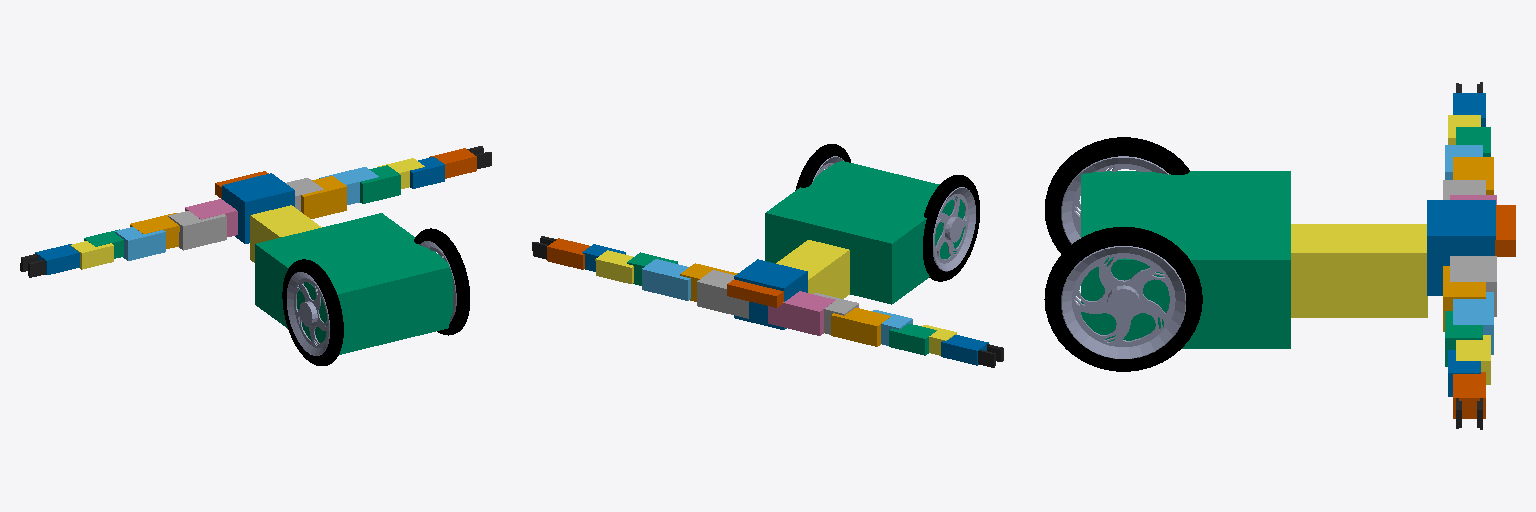
robot.urdf — Krang:
<?xml version="1.0" ?>
<!-- @file Krang.urdf -->
<!-- @author [author] -->
<!-- @date May 10, 2013 -->
<!-- @brief This file contains the .urdf definition for Krang. -->
<!-- NOTE: The center of mass locations are taken from the MassTable by summing up the -->
<!-- individual part values for the sections (which correspond to nodes here). -->
<!-- TODO: Set the center of mass locations -->
<!-- TODO: Set the correct masses. Note that the dae models have the brackets divided in two and -->
<!-- connected to the middle motor for which we do not have measurements. -->
<!-- NOTE: The bounding box values are taken by finding the min and max values of the dae files. -->

<robot name="Krang">

	<!-- Links -->

	<link name = "LWheel"> 
    <inertial>
      <mass value="4.66"/>
      <inertia ixx="0.102019" ixy="2.45462e-05" ixz="0.00713022" iyy="0.0832724" iyz="-0.00131733" izz="0.086493"/>
      <origin xyz="0 0 0"/>
    </inertial>
		<visual> <geometry> <mesh filename="Base/oldwheel.dae" /> </geometry> </visual> 
		<collision> <geometry> <mesh filename="Base/oldwheel.dae" /> </geometry> </collision> 
	</link>

	<link name = "RWheel"> 
    <inertial>
      <mass value="4.66"/>
      <inertia ixx="0.102019" ixy="2.45462e-05" ixz="0.00713022" iyy="0.0832724" iyz="-0.00131733" izz="0.086493"/>
      <origin xyz="0 0 0"/>
    </inertial>
		<visual> <geometry> <mesh filename="Base/oldwheel.dae" /> </geometry> </visual> 
		<collision> <geometry> <mesh filename="Base/oldwheel.dae" /> </geometry> </collision> 
	</link>

	<link name = "Base"> 
    <inertial>
      <mass value="81.856"/>
      <inertia ixx="0.102019" ixy="2.45462e-05" ixz="0.00713022" iyy="0.0832724" iyz="-0.00131733" izz="0.086493"/>
      <origin xyz="-0.00336451 0.107572 -0.00636184"/>
    </inertial>
		<visual> <origin xyz="0.00225 0.2097395 0.006300"/> <geometry> <box size="0.7165 0.71048 0.32860"/> </geometry> </visual> 
		<collision> <origin xyz="0.00225 0.2097395 0.006300"/> <geometry> <box size="0.7165 0.71048 0.32860"/> </geometry> </collision> 
	</link>

	<link name = "Spine"> 
    <inertial>
      <mass value="10.302"/>
      <inertia ixx="0.102019" ixy="2.45462e-05" ixz="0.00713022" iyy="0.0832724" iyz="-0.00131733" izz="0.086493"/>
			<!-- an offset of -0.02937 is added due to bad dae file and to align with base com -->
      <origin xyz="-0.02937 0.285314 0.0974926"/>
    </inertial>
		<visual> <origin xyz="-0.026 0.230150 0.053887"/> <geometry> <box size="0.2340 0.59430 0.24097"/> </geometry> </visual> 
		<collision> <origin xyz="-0.026 0.230150 0.053887"/> <geometry> <box size="0.2340 0.59430 0.24097"/> </geometry> </collision> 
	</link>

	<link name = "Bracket"> 
    <inertial>
      <mass value="10.17"/>
      <inertia ixx="0.102019" ixy="2.45462e-05" ixz="0.00713022" iyy="0.0832724" iyz="-0.00131733" izz="0.086493"/>
			<!-- offseted with 0.0827 because the origin of the bracket is at the bottom -->
      <origin xyz="0 0.080606 -0.00314267"/>
    </inertial>
		<visual> <origin xyz="0.0012875 0.0582 -0.0280530"/> <geometry> <box size="0.2815 0.23 0.22611"/> </geometry> </visual> 
		<collision> <origin xyz="0.0012875 0.0582 -0.0280530"/> <geometry> <box size="0.2815 0.23 0.22611"/> </geometry> </collision> 
	</link>

	<link name = "Kinect"> 
    <inertial>
      <mass value="0.705"/>
      <inertia ixx="0.102019" ixy="2.45462e-05" ixz="0.00713022" iyy="0.0832724" iyz="-0.00131733" izz="0.086493"/>
      <origin xyz="0.0 -0.04 -0.028"/>
    </inertial>
		<visual> <origin xyz="0.0 -0.0251 -0.0185"/> <geometry> <box size="0.28 0.07 0.063"/> </geometry> </visual> 
		<collision> <origin xyz="0.0 -0.0251 -0.0185"/> <geometry> <box size="0.28 0.07 0.063"/> </geometry> </collision> 
	</link>

	<link name = "L1"> 
    <inertial>
      <mass value="3.836"/>
      <inertia ixx="0.102019" ixy="2.45462e-05" ixz="0.00713022" iyy="0.0832724" iyz="-0.00131733" izz="0.086493"/>
      <origin xyz="0.0063626 -0.00725706 0"/>
    </inertial>
		<visual> <origin xyz="0.015 -0.080866 0.0"/> <geometry> <box size="0.16 0.29367 0.13188"/> </geometry> </visual> 
		<collision> <origin xyz="0.015 -0.080866 0.0"/> <geometry> <box size="0.16 0.29367 0.13188"/> </geometry> </collision> 
	</link>

	<link name = "L2"> 
    <inertial>
      <mass value="2.385"/>
      <inertia ixx="0.102019" ixy="2.45462e-05" ixz="0.00713022" iyy="0.0832724" iyz="-0.00131733" izz="0.086493"/>
      <origin xyz="0.0101136 -0.15332 0"/>
    </inertial>
		<visual> <origin xyz="0.017042 -0.058309 0.0"/> <geometry> <box size="0.14591 0.24658 0.13"/> </geometry> </visual> 
		<collision> <origin xyz="0.017042 -0.058309 0.0"/> <geometry> <box size="0.14591 0.24658 0.13"/> </geometry> </collision> 
	</link>

	<link name = "L3"> 
    <inertial>
      <mass value="2.306"/>
      <inertia ixx="0.102019" ixy="2.45462e-05" ixz="0.00713022" iyy="0.0832724" iyz="-0.00131733" izz="0.086493"/>
      <origin xyz="0.0071222 -0.00803823 0"/>
    </inertial>
		<visual> <origin xyz="0.014000 -0.075113 0.0"/> <geometry> <box size="0.13800 0.26217 0.11189"/> </geometry> </visual> 
		<collision> <origin xyz="0.014000 -0.075113 0.0"/> <geometry> <box size="0.13800 0.26217 0.11189"/> </geometry> </collision> 
	</link>

	<link name = "L4"> 
    <inertial>
      <mass value="1.477"/>
      <inertia ixx="0.102019" ixy="2.45462e-05" ixz="0.00713022" iyy="0.0832724" iyz="-0.00131733" izz="0.086493"/>
      <origin xyz="0.0115211 -0.1255 0"/>
    </inertial>
		<visual> <origin xyz="0.018200 -0.052050 0.0"/> <geometry> <box size="0.12960 0.2141 0.11"/> </geometry> </visual> 
		<collision> <origin xyz="0.018200 -0.052050 0.0"/> <geometry> <box size="0.12960 0.2141 0.11"/> </geometry> </collision> 
	</link>

	<link name = "L5"> 
    <inertial>
      <mass value="1.369"/>
      <inertia ixx="0.102019" ixy="2.45462e-05" ixz="0.00713022" iyy="0.0832724" iyz="-0.00131733" izz="0.086493"/>
      <origin xyz="0.00705037 -0.00747172 0"/>
    </inertial>
		<visual> <origin xyz="0.0145115 -0.0571105 0.0000425"/> <geometry> <box size="0.117977 0.204179 0.089915"/> </geometry> </visual> 
		<collision> <origin xyz="0.0145115 -0.0571105 0.0000425"/> <geometry> <box size="0.117977 0.204179 0.089915"/> </geometry> </collision> 
	</link>

	<link name = "L6"> 
    <inertial>
      <mass value="1.47"/>
      <inertia ixx="0.102019" ixy="2.45462e-05" ixz="0.00713022" iyy="0.0832724" iyz="-0.00131733" izz="0.086493"/>
      <origin xyz="0.0105523 -0.117163 0"/>
    </inertial>
		<visual> <origin xyz="0.0175015 -0.0481615 0.0"/> <geometry> <box size="0.111977 0.185277 0.089"/> </geometry> </visual> 
		<collision> <origin xyz="0.0175015 -0.0481615 0.0"/> <geometry> <box size="0.111977 0.185277 0.089"/> </geometry> </collision> 
	</link>

	<link name = "lGripper"> 
    <inertial>
      <mass value="1.6"/>
      <inertia ixx="0.102019" ixy="2.45462e-05" ixz="0.00713022" iyy="0.0832724" iyz="-0.00131733" izz="0.086493"/>
			<!-- An addition of 4.05 cms from the end of Schunk gripper to space between two halves of ft -->
      <origin xyz="0 0 0.1055"/>
    </inertial>
		<visual> <origin xyz="0.0 -0.0 0.02615" rpy="0.0 0.0 1.5708"/> <geometry> <box size="0.08 0.112 0.2025"/> </geometry> </visual> 
		<collision> <origin xyz="0.0 -0.0 0.02615" rpy="0.0 0.0 1.5708"/> <geometry> <box size="0.08 0.112 0.2025"/> </geometry> </collision> 
	</link>

	<link name = "lgPlate1">
    <inertial> <mass value="0.0001"/> </inertial>
		<visual> <geometry> <mesh filename="Schunk/gripperPlate.dae" /> </geometry> </visual>
	</link> 	

	<link name = "lgPlate2">
    <inertial> <mass value="0.0001"/> </inertial>
		<visual> <geometry> <mesh filename="Schunk/gripperPlate.dae" /> </geometry> </visual>
	</link> 	

	<link name = "R1"> 
    <inertial>
      <mass value="3.836"/>
      <inertia ixx="0.102019" ixy="2.45462e-05" ixz="0.00713022" iyy="0.0832724" iyz="-0.00131733" izz="0.086493"/>
      <origin xyz="0.0063626 -0.00725706 0"/>
    </inertial>
		<visual> <origin xyz="0.015 -0.080866 0.0"/> <geometry> <box size="0.16 0.29367 0.13188"/> </geometry> </visual> 
		<collision> <origin xyz="0.015 -0.080866 0.0"/> <geometry> <box size="0.16 0.29367 0.13188"/> </geometry> </collision> 
	</link>

	<link name = "R2"> 
    <inertial>
      <mass value="2.385"/>
      <inertia ixx="0.102019" ixy="2.45462e-05" ixz="0.00713022" iyy="0.0832724" iyz="-0.00131733" izz="0.086493"/>
      <origin xyz="0.0101136 -0.15332 0"/>
    </inertial>
		<visual> <origin xyz="0.017042 -0.058309 0.0"/> <geometry> <box size="0.14591 0.24658 0.13"/> </geometry> </visual> 
		<collision> <origin xyz="0.017042 -0.058309 0.0"/> <geometry> <box size="0.14591 0.24658 0.13"/> </geometry> </collision> 
	</link>

	<link name = "R3"> 
    <inertial>
      <mass value="2.306"/>
      <inertia ixx="0.102019" ixy="2.45462e-05" ixz="0.00713022" iyy="0.0832724" iyz="-0.00131733" izz="0.086493"/>
      <origin xyz="0.0071222 -0.00803823 0"/>
    </inertial>
		<visual> <origin xyz="0.014000 -0.075113 0.0"/> <geometry> <box size="0.13800 0.26217 0.11189"/> </geometry> </visual> 
		<collision> <origin xyz="0.014000 -0.075113 0.0"/> <geometry> <box size="0.13800 0.26217 0.11189"/> </geometry> </collision> 
	</link>

	<link name = "R4"> 
    <inertial>
      <mass value="1.477"/>
      <inertia ixx="0.102019" ixy="2.45462e-05" ixz="0.00713022" iyy="0.0832724" iyz="-0.00131733" izz="0.086493"/>
      <origin xyz="0.0115211 -0.1255 0"/>
    </inertial>
		<visual> <origin xyz="0.018200 -0.052050 0.0"/> <geometry> <box size="0.12960 0.2141 0.11"/> </geometry> </visual> 
		<collision> <origin xyz="0.018200 -0.052050 0.0"/> <geometry> <box size="0.12960 0.2141 0.11"/> </geometry> </collision> 
	</link>

	<link name = "R5"> 
    <inertial>
      <mass value="1.369"/>
      <inertia ixx="0.102019" ixy="2.45462e-05" ixz="0.00713022" iyy="0.0832724" iyz="-0.00131733" izz="0.086493"/>
      <origin xyz="0.00705037 -0.00747172 0"/>
    </inertial>
		<visual> <origin xyz="0.0145115 -0.0571105 0.0000425"/> <geometry> <box size="0.117977 0.204179 0.089915"/> </geometry> </visual> 
		<collision> <origin xyz="0.0145115 -0.0571105 0.0000425"/> <geometry> <box size="0.117977 0.204179 0.089915"/> </geometry> </collision> 
	</link>

	<link name = "R6"> 
    <inertial>
      <mass value="1.47"/>
      <inertia ixx="0.102019" ixy="2.45462e-05" ixz="0.00713022" iyy="0.0832724" iyz="-0.00131733" izz="0.086493"/>
      <origin xyz="0.0105523 -0.117163 0"/>
    </inertial>
		<visual> <origin xyz="0.0175015 -0.0481615 0.0"/> <geometry> <box size="0.111977 0.185277 0.089"/> </geometry> </visual> 
		<collision> <origin xyz="0.0175015 -0.0481615 0.0"/> <geometry> <box size="0.111977 0.185277 0.089"/> </geometry> </collision> 
	</link>

	<link name = "rGripper"> 
    <inertial>
      <mass value="1.6"/>
      <inertia ixx="0.102019" ixy="2.45462e-05" ixz="0.00713022" iyy="0.0832724" iyz="-0.00131733" izz="0.086493"/>
			<!-- An addition of 4.05 cms from the end of Schunk gripper to space between two halves of ft -->
      <origin xyz="0 0 0.1055"/>
    </inertial>
		<visual> <origin xyz="0.0 -0.0 0.02615" rpy="0.0 0.0 1.5708"/> <geometry> <box size="0.08 0.112 0.2025"/> </geometry> </visual> 
		<collision> <origin xyz="0.0 -0.0 0.02615" rpy="0.0 0.0 1.5708"/> <geometry> <box size="0.08 0.112 0.2025"/> </geometry> </collision> 
	</link>

	<link name = "rgPlate1">
    <inertial> <mass value="0.0001"/> </inertial>
		<visual> <geometry> <mesh filename="Schunk/gripperPlate.dae" /> </geometry> </visual>
	</link> 	

	<link name = "rgPlate2">
    <inertial> <mass value="0.0001"/> </inertial>
		<visual> <geometry> <mesh filename="Schunk/gripperPlate.dae" /> </geometry> </visual>
	</link> 	

	<!-- ======================================================================================================== -->
	<!-- ============================================ Joints ==================================================== -->
	<!-- ======================================================================================================== -->

	<joint name="JLWheel" type="revolute"> <parent link="Base" /> <child link="LWheel" />
		<origin xyz = "-0.354 0.0 0" rpy="0 0 0" />
		<axis xyz="1 0 0" /> <limit effort="1000" lower="-3.1416" upper="3.1416" velocity="0.1" />
	</joint>

	<joint name="JRWheel" type="revolute"> <parent link="Base" /> <child link="RWheel" />
		<origin xyz = "0.361 0.0 0" rpy="0 0 0" />
		<axis xyz="1 0 0" /> <limit effort="1000" lower="-3.1416" upper="3.1416" velocity="0.1" />
	</joint>

	<joint name="JWaist" type="revolute"> <parent link="Base" /> <child link="Spine" />
		<origin xyz = "0.026 0.499 -0.091" rpy="0 0 0" />
		<axis xyz="-1 0 0" /> <limit effort="1000" lower="0" upper="2.7" velocity="0.1" />
	</joint>

	<joint name="JTorso" type="revolute"> <parent link="Spine" /> <child link="Bracket" />
		<origin xyz = "-0.0285 0.584 0.1088" rpy="0 3.1416 0" /> 
		<axis xyz="0 -1 0" /> <limit effort="1000" lower="-0.8" upper="0.8" velocity="0.1" />
	</joint>

	<joint name="JKinect" type="revolute"> <parent link="Bracket" /> <child link="Kinect" />
		<origin xyz = "-0.001 0.1805 -0.1120" rpy="3.1416 0 0" />
		<axis xyz="1 0 0" /> <limit effort="1000" lower="-3.1416" upper="3.1416" velocity="0.1" />
	</joint>

	<joint name="LJ1" type="revolute"> <parent link="Bracket" /> <child link="L1" />
		<origin xyz = "0.2823 0.0845 0" rpy="0 3.1416 -1.5708" />
		<axis xyz="0 -1 0" /> <limit effort="1000" lower="-3.1416" upper="3.1416" velocity="0.1" />
	</joint>

	<joint name="LJ2" type="revolute"> <parent link="L1" /> <child link="L2" />
		<origin xyz="0 0.0 0" rpy="3.14 3.14 0" />
		<axis xyz="-1 0 0" /> <limit effort="1000" lower="-2.094" upper="2.094" velocity="0.1" />
	</joint>

	<joint name="LJ3" type="revolute"> <parent link="L2" /> <child link="L3" />
		<origin xyz="0 -0.328 0" rpy="-3.1416 -3.1416 0" />
		<axis xyz="0 -1 0" /> <limit effort="1000" lower="-3.1416" upper="3.1416" velocity="0.1" />
	</joint>

	<joint name="LJ4" type="revolute"> <parent link="L3" /> <child link="L4" />
		<origin xyz="0 0 0" rpy="3.1416 3.1416 0" />
		<axis xyz="-1 0 0" /> <limit effort="1000" lower="-2.094" upper="2.094" velocity="0.1" />
	</joint>

	<joint name="LJ5" type="revolute"> <parent link="L4" /> <child link="L5" />
		<origin xyz="0 -0.2765 0" rpy="3.1416 3.1416 0" />
		<axis xyz="0 -1 0" /> <limit effort="1000" lower="-3.1416" upper="3.1416" velocity="0.1" />
	</joint>

	<joint name="LJ6" type="revolute"> <parent link="L5" /> <child link="L6" />
		<origin xyz="0 0 0" rpy="3.1416 3.1416 0" />
		<axis xyz="-1 0 0" /> <limit effort="1000" lower="-2.094" upper="2.094" velocity="0.1" />
	</joint>

	<!-- For some reason, I had to negate the axis to make sure the motor turns like the others -->
	<joint name="LJFT" type="revolute"> <parent link="L6" /> <child link="lGripper" />
		<origin xyz="0 -0.200 0" rpy="1.5708 3.1416 0" />
		<axis xyz="0 0 -1" /> <limit effort="1000" lower="-3.1416" upper="3.1416" velocity="0.1" />
	</joint>

	<joint name="LMotorPlate1" type="fixed"> <parent link="lGripper" /> <child link="lgPlate1" />
		<origin xyz="-0.045 0.0 0.127" rpy="3.1416 0 0" />
		<axis xyz="1 0 0" /> <limit effort="1000" lower="0.0" upper="0.022" velocity="0.1" />
	</joint>

	<joint name="LMotorPlate2" type="fixed"> <parent link="lGripper" /> <child link="lgPlate2" />
		<origin xyz="0.045 0.000 0.127" rpy="3.1416 0 3.1416" />
		<axis xyz="1 0 0" /> <limit effort="1000" lower="0.0" upper="0.022" velocity="0.1" />
	</joint>

	<!-- Right arm -->

	<joint name="RJ1" type="revolute"> <parent link="Bracket" /> <child link="R1" />
		<origin xyz = "-0.2823 0.0845 0" rpy="0 0 1.5708" />
		<axis xyz="0 -1 0" /> <limit effort="1000" lower="-3.1416" upper="3.1416" velocity="0.1" />
	</joint>

	<joint name="RJ2" type="revolute"> <parent link="R1" /> <child link="R2" />
		<origin xyz="0 0.0 0" rpy="3.14 3.14 0" />
		<axis xyz="-1 0 0" /> <limit effort="1000" lower="-2.094" upper="2.094" velocity="0.1" />
	</joint>

	<joint name="RJ3" type="revolute"> <parent link="R2" /> <child link="R3" />
		<origin xyz="0 -0.328 0" rpy="-3.1416 -3.1416 0" />
		<axis xyz="0 -1 0" /> <limit effort="1000" lower="-3.1416" upper="3.1416" velocity="0.1" />
	</joint>

	<joint name="RJ4" type="revolute"> <parent link="R3" /> <child link="R4" />
		<origin xyz="0 0 0" rpy="3.1416 3.1416 0" />
		<axis xyz="-1 0 0" /> <limit effort="1000" lower="-2.094" upper="2.094" velocity="0.1" />
	</joint>

	<joint name="RJ5" type="revolute"> <parent link="R4" /> <child link="R5" />
		<origin xyz="0 -0.2765 0" rpy="3.1416 3.1416 0" />
		<axis xyz="0 -1 0" /> <limit effort="1000" lower="-3.1416" upper="3.1416" velocity="0.1" />
	</joint>

	<joint name="RJ6" type="revolute"> <parent link="R5" /> <child link="R6" />
		<origin xyz="0 0 0" rpy="3.1416 3.1416 0" />
		<axis xyz="-1 0 0" /> <limit effort="1000" lower="-2.094" upper="2.094" velocity="0.1" />
	</joint>

	<joint name="RJFT" type="revolute"> <parent link="R6" /> <child link="rGripper" />
		<origin xyz="0 -0.200 0" rpy="1.5708 3.1416 0" />
		<axis xyz="0 0 -1" /> <limit effort="1000" lower="-3.1416" upper="3.1416" velocity="0.1" />
	</joint>

	<joint name="RMotorPlate1" type="fixed"> <parent link="rGripper" /> <child link="rgPlate1" />
		<origin xyz="-0.045 0.0 0.127" rpy="3.1416 0 0" />
		<axis xyz="1 0 0" /> <limit effort="1000" lower="0.0" upper="0.022" velocity="0.1" />
	</joint>

	<joint name="RMotorPlate2" type="fixed"> <parent link="rGripper" /> <child link="rgPlate2" />
		<origin xyz="0.045 0.000 0.127" rpy="3.1416 0 3.1416" />
		<axis xyz="1 0 0" /> <limit effort="1000" lower="0.0" upper="0.022" velocity="0.1" />
	</joint>

</robot>

--- What the picture shows (computed from the rendered views, not written in the file) ---
Views: 3 orthographic renders of the robot side by side, from view 1: azimuth 30°, elevation 25°; view 2: azimuth 150°, elevation 25°; view 3: azimuth 270°, elevation 25°.
Model Krang with 24 links and 23 joints (19 revolute, 4 fixed), rooted at Base, posed every joint at zero.
Links seen in each view (by area): view 1: Base, LWheel, Bracket, RWheel, Spine, L2, R2, L4, R4, lGripper, L1, rGripper (+4 smaller); view 2: Base, LWheel, Spine, Bracket, L1, L3, R1, R3, RWheel, L5, Kinect, R5 (+3 smaller); view 3: Base, RWheel, Spine, LWheel, Bracket, R1, R3, rGripper, L3, Kinect, R2, R5 (+7 smaller).
Boxes of the visible links, left/top/right/bottom form: Base: left=255, top=213, right=453, bottom=354; LWheel: left=282, top=259, right=343, bottom=365; Bracket: left=222, top=173, right=294, bottom=243; RWheel: left=414, top=228, right=469, bottom=335; Spine: left=250, top=205, right=321, bottom=262; L2: left=168, top=211, right=226, bottom=250; R2: left=301, top=176, right=346, bottom=218; L4: left=115, top=227, right=165, bottom=260; R4: left=360, top=165, right=400, bottom=203; lGripper: left=35, top=244, right=79, bottom=274; L1: left=185, top=199, right=237, bottom=236; rGripper: left=429, top=148, right=476, bottom=178; Base: left=765, top=161, right=964, bottom=304; LWheel: left=923, top=175, right=979, bottom=281; Spine: left=776, top=240, right=849, bottom=298; Bracket: left=734, top=259, right=807, bottom=329; L1: left=768, top=291, right=835, bottom=335; L3: left=831, top=308, right=890, bottom=346; R1: left=697, top=270, right=748, bottom=318; R3: left=642, top=259, right=690, bottom=300; RWheel: left=795, top=144, right=850, bottom=190; L5: left=889, top=324, right=936, bottom=355; Kinect: left=727, top=279, right=783, bottom=307; R5: left=595, top=250, right=633, bottom=283; Base: left=1081, top=171, right=1290, bottom=348; RWheel: left=1044, top=227, right=1202, bottom=371; Spine: left=1291, top=224, right=1427, bottom=317; LWheel: left=1045, top=137, right=1189, bottom=254; Bracket: left=1427, top=200, right=1495, bottom=295; R1: left=1450, top=256, right=1496, bottom=316; R3: left=1453, top=292, right=1493, bottom=354; rGripper: left=1453, top=372, right=1485, bottom=418; L3: left=1453, top=157, right=1493, bottom=194; Kinect: left=1495, top=205, right=1515, bottom=256; R2: left=1443, top=266, right=1485, bottom=331; R5: left=1456, top=335, right=1490, bottom=384.
Bounding box of the posed robot: 2.61 × 1.59 × 0.5335 m (x, y, z).
Meshes: 2 distinct files referenced, 6 mesh visuals loaded (2 Collada DAE).